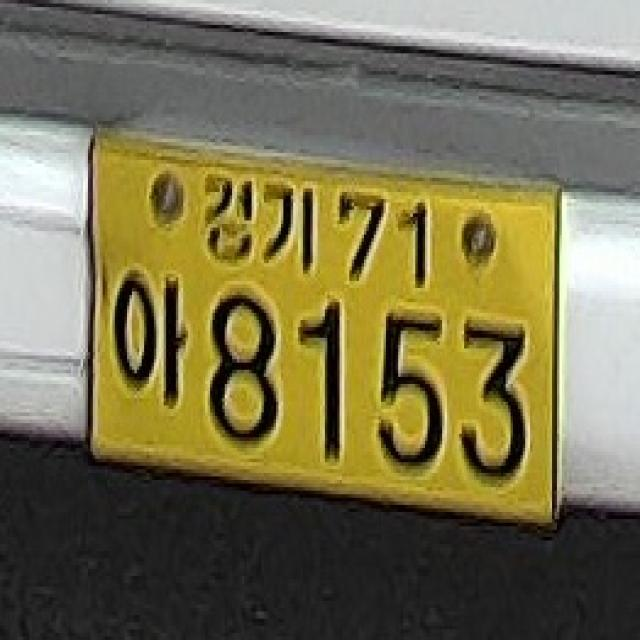plat: (86, 121, 564, 529)
